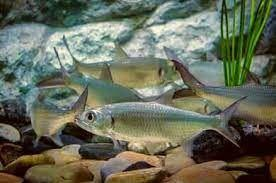Indo-Pacific Tarpon: (75, 97, 246, 148)
